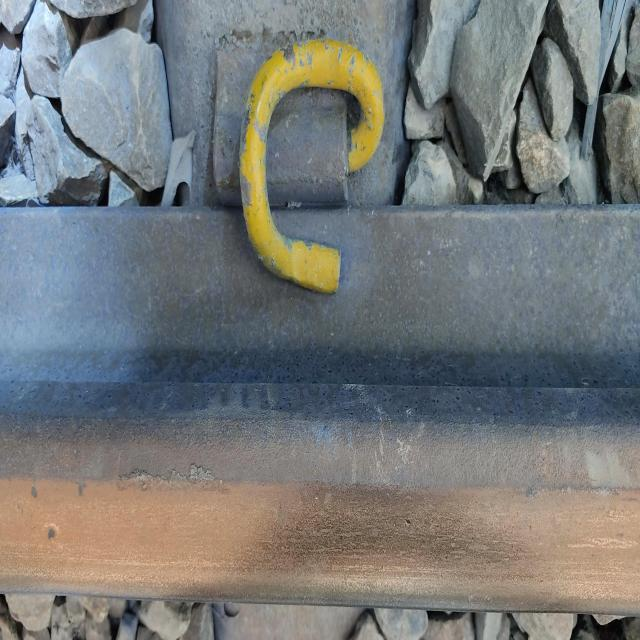Good Fasteners: (194, 0, 403, 316)
